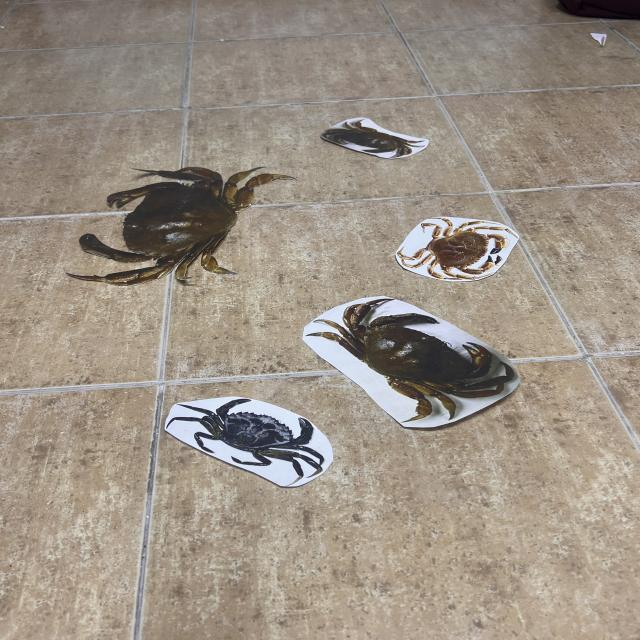European_Green_Crab: (156, 373, 349, 495)
